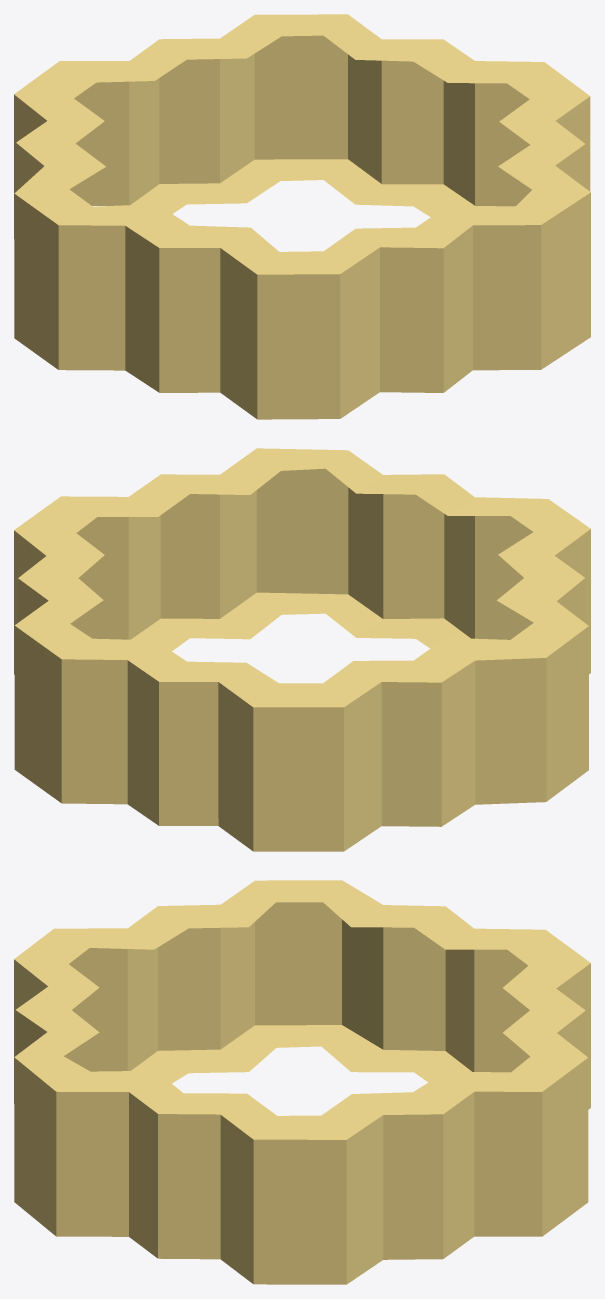
The model's file is beach.fbx.
3 renders of one model, top to bottom at view 1: azimuth 30°, elevation 25°; view 2: azimuth 150°, elevation 25°; view 3: azimuth 270°, elevation 25°, orthographic.
Visible parts, largest first — view 1: BasePlate.018; view 2: BasePlate.018; view 3: BasePlate.018.
Boxes of the visible parts, x1,y1,x2,y2 form: BasePlate.018: (14,14,590,419); BasePlate.018: (14,448,590,851); BasePlate.018: (14,880,590,1284).
Bounding box in the file's own units: 1003 × 262 × 942.
